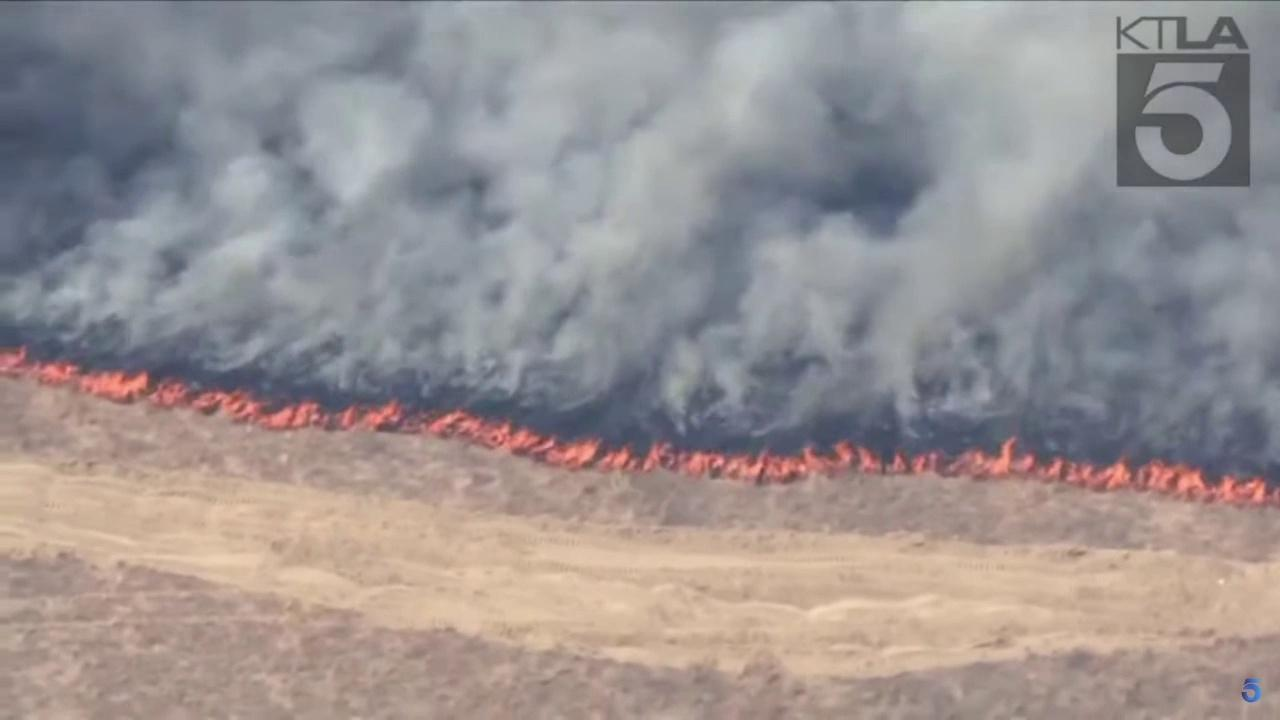fire: (429, 408, 1280, 505), (0, 344, 410, 438)
smoke: (0, 0, 1280, 482)
